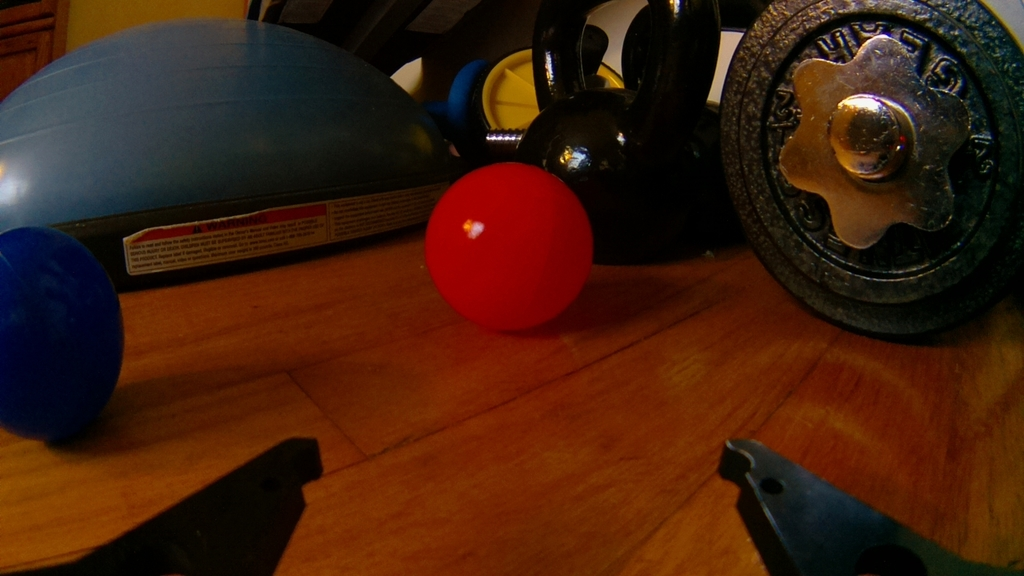ball: (421, 161, 595, 334)
